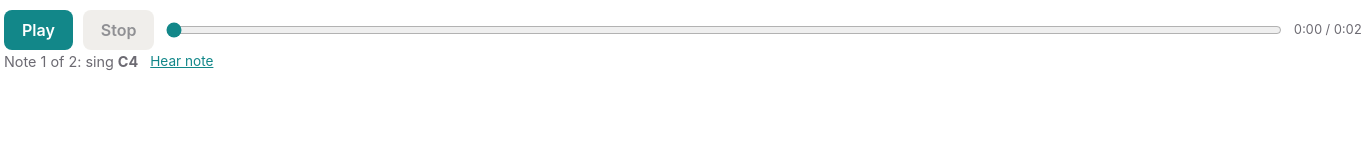
Scenario: Wait for me score › needs the note in tune, not just close
Click the button "Play". click: (38, 30)
box: x1=4 y1=10 x2=73 y2=50
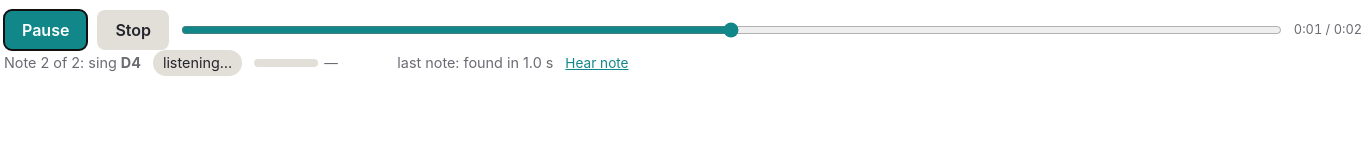
Expected: the text "Note 2 of 2: sing D4" is shown, x1=4 y1=52 x2=141 y2=74
